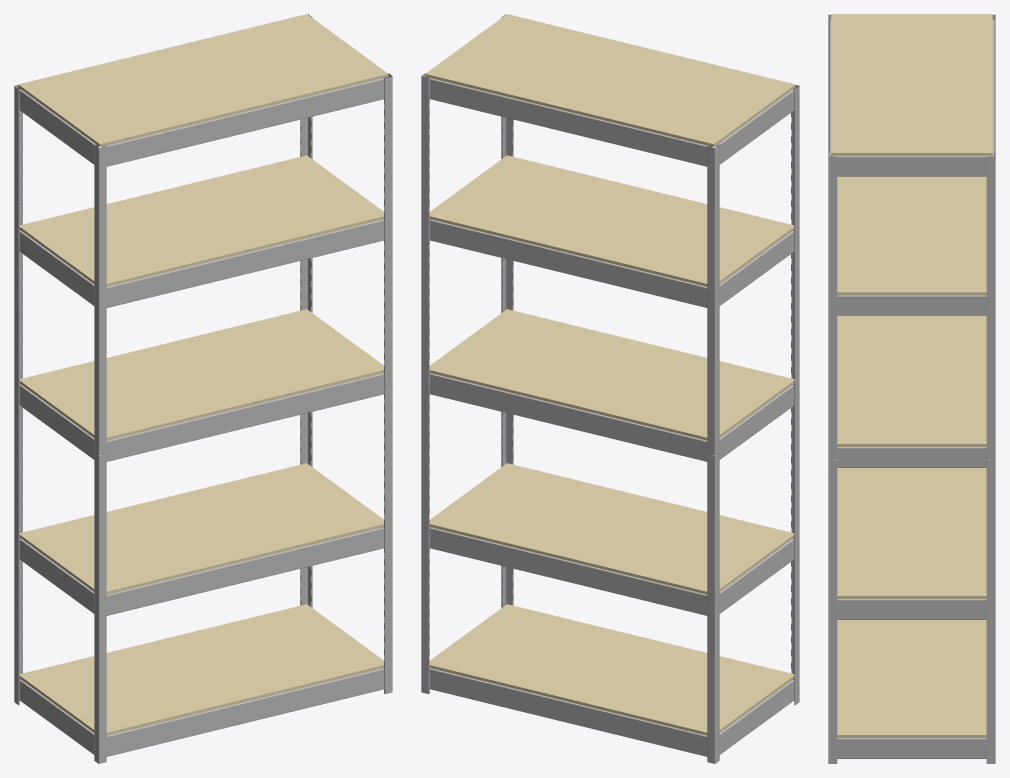
The model's file is sweethome3d-katorlegaz-shelves-54.glb.
3 renders of one model, left to right at view 1: azimuth 30°, elevation 25°; view 2: azimuth 150°, elevation 25°; view 3: azimuth 270°, elevation 25°, orthographic.
Visible parts, largest first — view 1: metal_shelf_1, metal_shelf_3, metal_shelf_2, metal_shelf_5, metal_shelf_4, metal_verticals_1, metal_verticals_2_metal_verticals_2.001; view 2: metal_shelf_1, metal_shelf_2, metal_shelf_3, metal_shelf_5, metal_shelf_4, metal_verticals_1, metal_verticals_2_metal_verticals_2.001; view 3: metal_shelf_1, metal_shelf_4, metal_shelf_3, metal_shelf_2, metal_shelf_5, metal_verticals_1, metal_verticals_2_metal_verticals_2.001.
Boxes of the visible parts, x1,y1,x2,y2 form: metal_shelf_1: (18, 14, 388, 166); metal_shelf_3: (19, 309, 386, 461); metal_shelf_2: (19, 155, 384, 307); metal_shelf_5: (19, 604, 384, 756); metal_shelf_4: (19, 463, 384, 615); metal_verticals_1: (14, 14, 392, 455); metal_verticals_2_metal_verticals_2.001: (14, 384, 392, 763); metal_shelf_1: (425, 14, 795, 166); metal_shelf_2: (429, 155, 794, 307); metal_shelf_3: (427, 309, 794, 461); metal_shelf_5: (429, 604, 794, 756); metal_shelf_4: (429, 463, 794, 615); metal_verticals_1: (421, 14, 799, 455); metal_verticals_2_metal_verticals_2.001: (421, 384, 799, 763); metal_shelf_1: (829, 14, 994, 176); metal_shelf_4: (832, 460, 991, 619); metal_shelf_3: (829, 316, 994, 467); metal_shelf_2: (832, 155, 991, 315); metal_shelf_5: (837, 620, 986, 758); metal_verticals_1: (828, 14, 995, 459); metal_verticals_2_metal_verticals_2.001: (828, 460, 995, 763).
Size of the model in its own units: 6 by 12.05 by 3.
